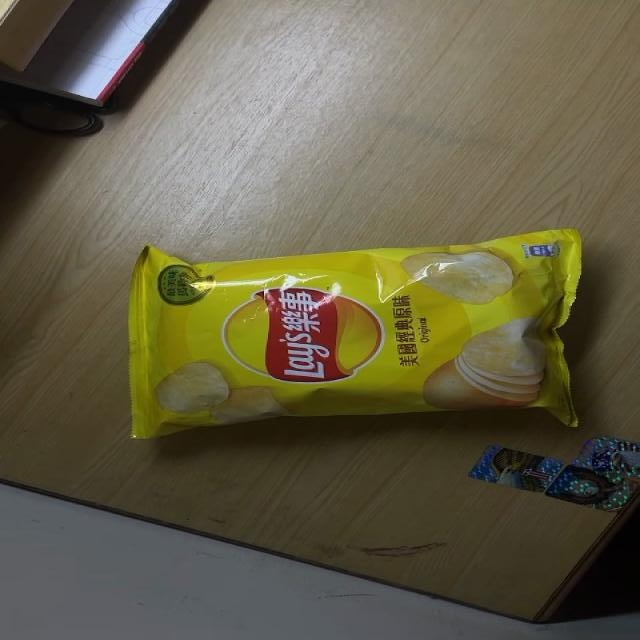Lay-s-original: (122, 227, 582, 442)
